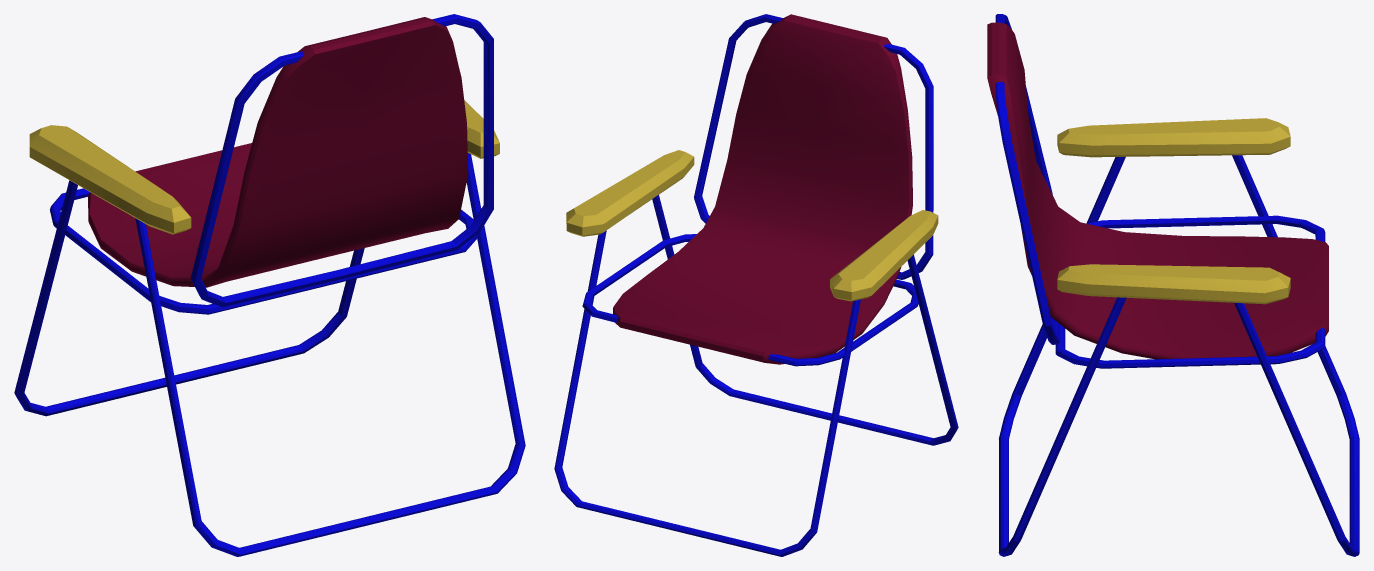
File: Chair.FBX
3 renders of one model, left to right at view 1: azimuth 30°, elevation 25°; view 2: azimuth 150°, elevation 25°; view 3: azimuth 270°, elevation 25°, orthographic. The views are drawn at different scales.
Parts seen in each view (by area): view 1: Chair; view 2: Chair; view 3: Chair.
Part boxes in pixels (x1,y1,x2,y2): Chair: (14,14,525,556); Chair: (554,14,958,556); Chair: (987,14,1359,556).
Bounding box in the file's own units: 833 × 763 × 1020.
